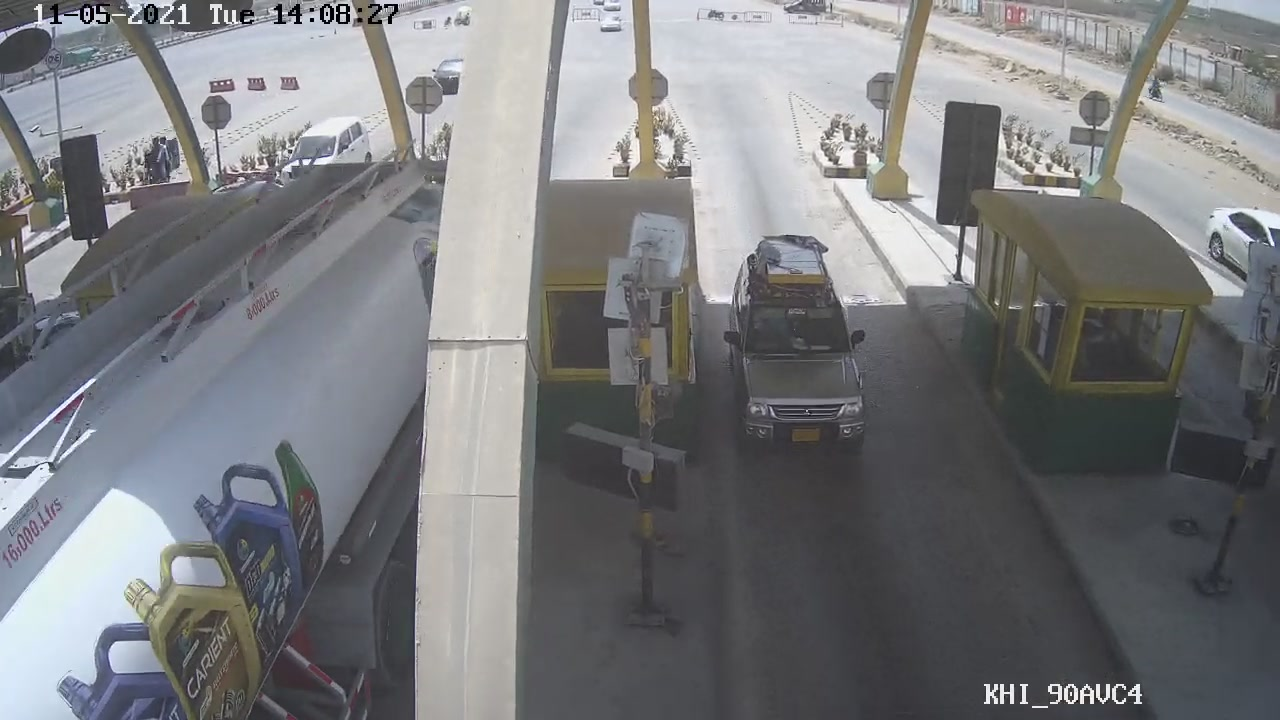F1: (718, 235, 872, 459)
